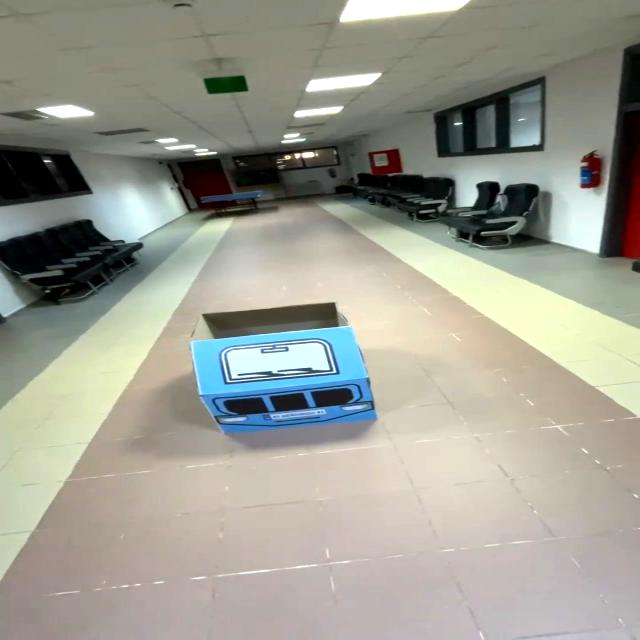blue_car: (169, 289, 411, 448)
